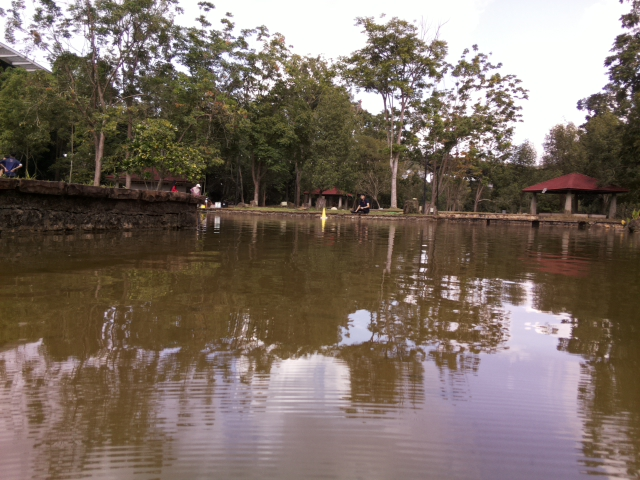checkpoint: (318, 207, 330, 221)
